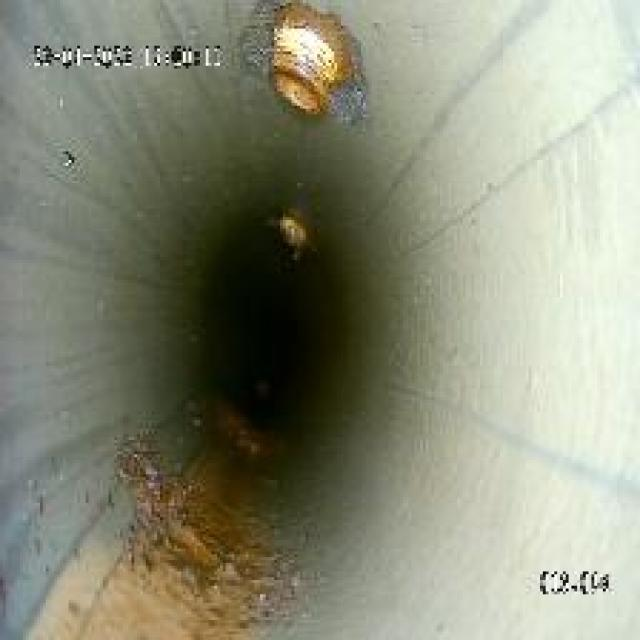ferrule: (251, 6, 363, 114), (257, 208, 317, 252)
